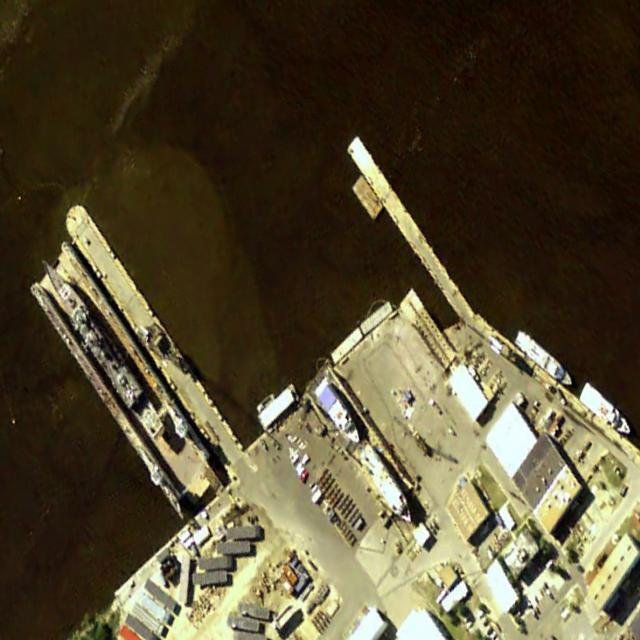Frigate: (35, 245, 168, 447)
Other Ship: (357, 440, 419, 532), (312, 376, 367, 450), (513, 326, 575, 390), (578, 380, 635, 441)
